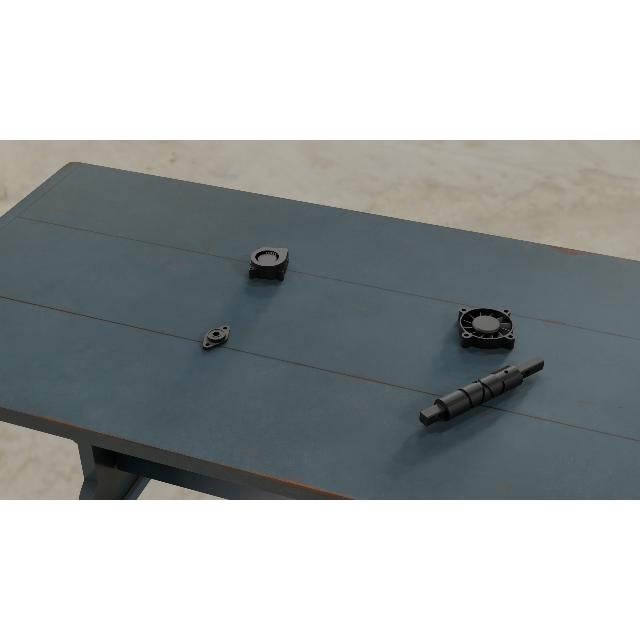Pieza1: (415, 348, 549, 436)
Pieza2: (195, 320, 237, 352)
Pieza3: (247, 246, 289, 282)
Pieza4: (458, 307, 516, 351)
